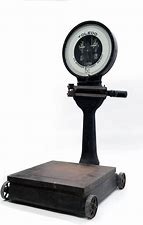Industrial Scale: (1, 20, 128, 220)
